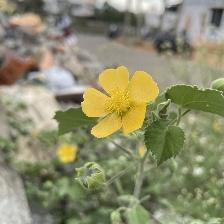indian mallow: (81, 66, 161, 139)
